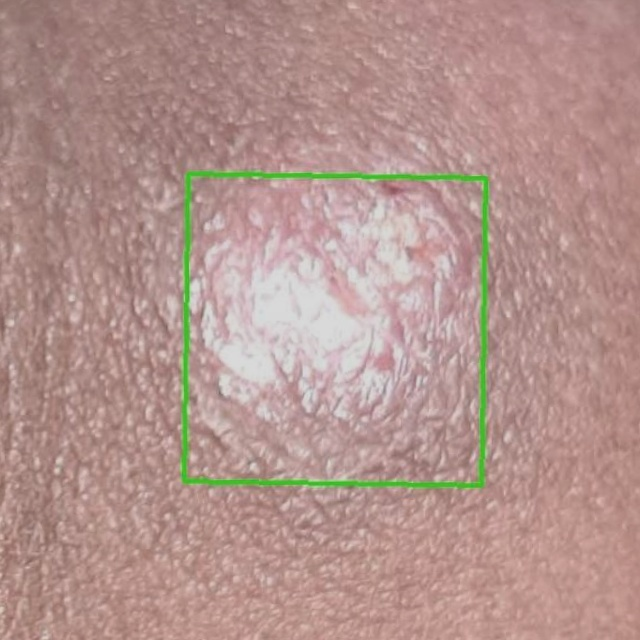Contact Dermatitis: (183, 173, 484, 484)
